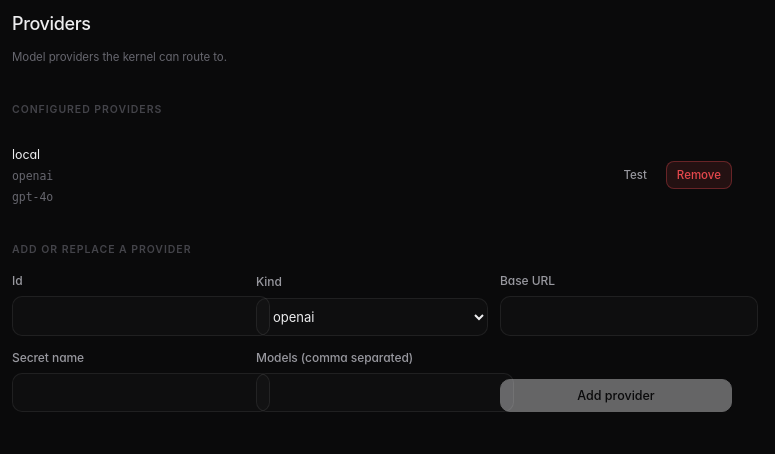
Test: ProvidersSettings › renders a successful provider test
Expected: the text "local" is shown, [12, 147, 40, 162]
Click the button "Test": (635, 175) [612, 161, 658, 189]
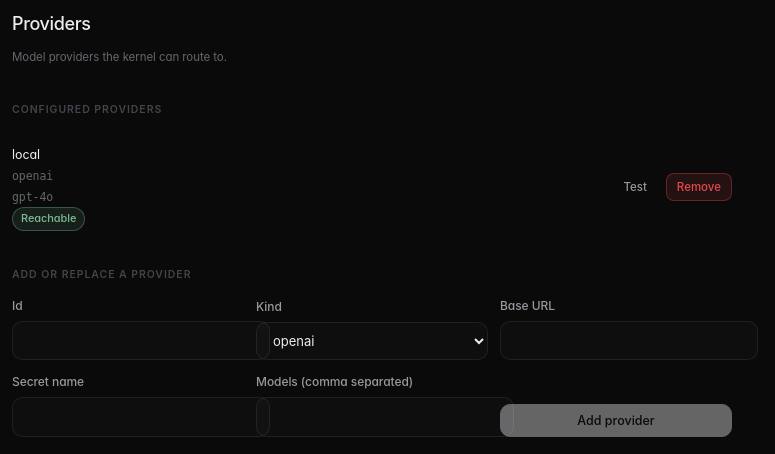
Expected: the text "Reachable" is shown, [12, 207, 85, 231]
